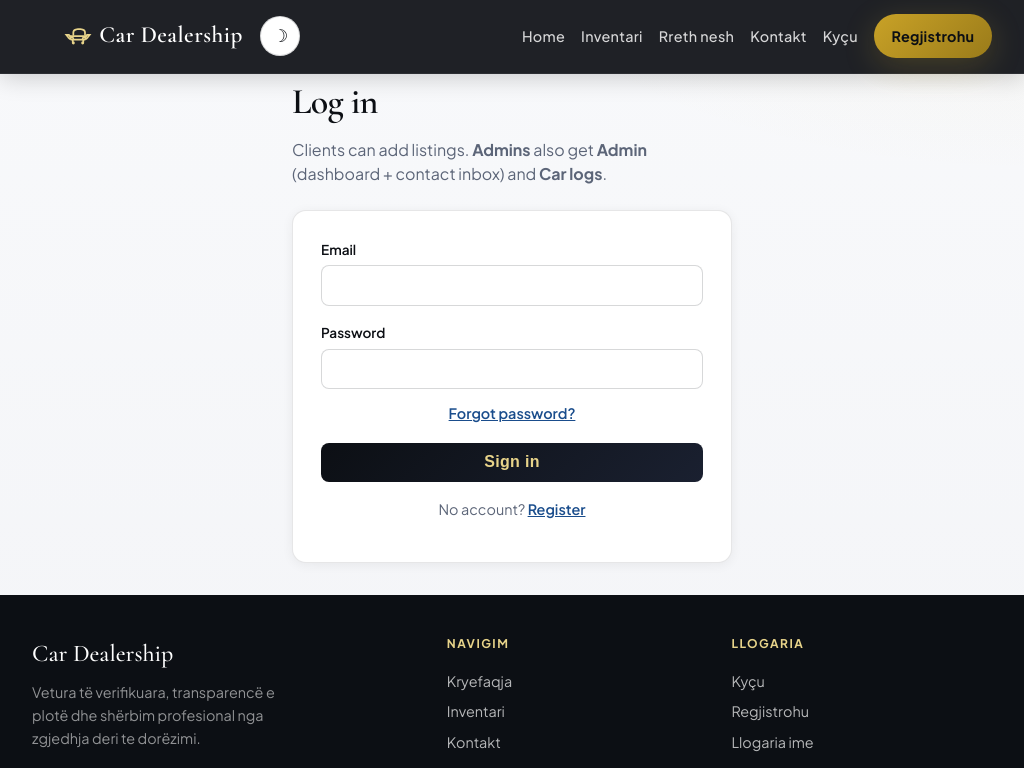
Test case: Car Dealership core user flow › shows validation on invalid login
Type "invalid.user@example.com" into the field with id "login-email" at (512, 286), box [321,265,703,306]
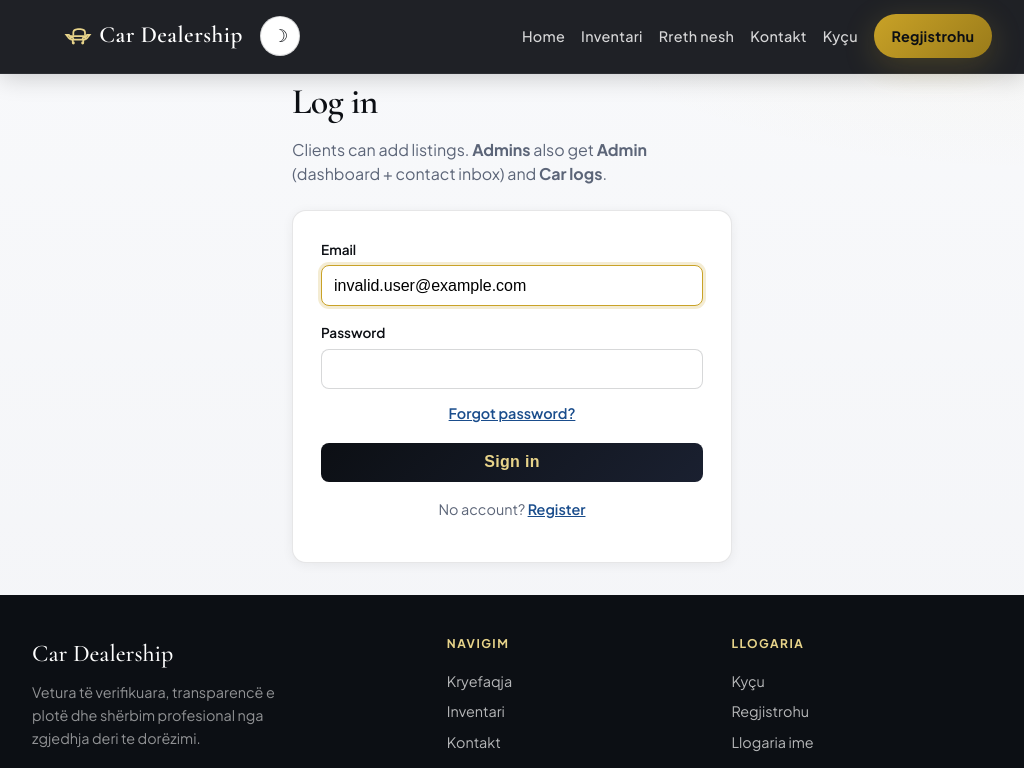
Type "wrong-password" into the password field with id "login-password" at (512, 370), box [321,349,703,390]
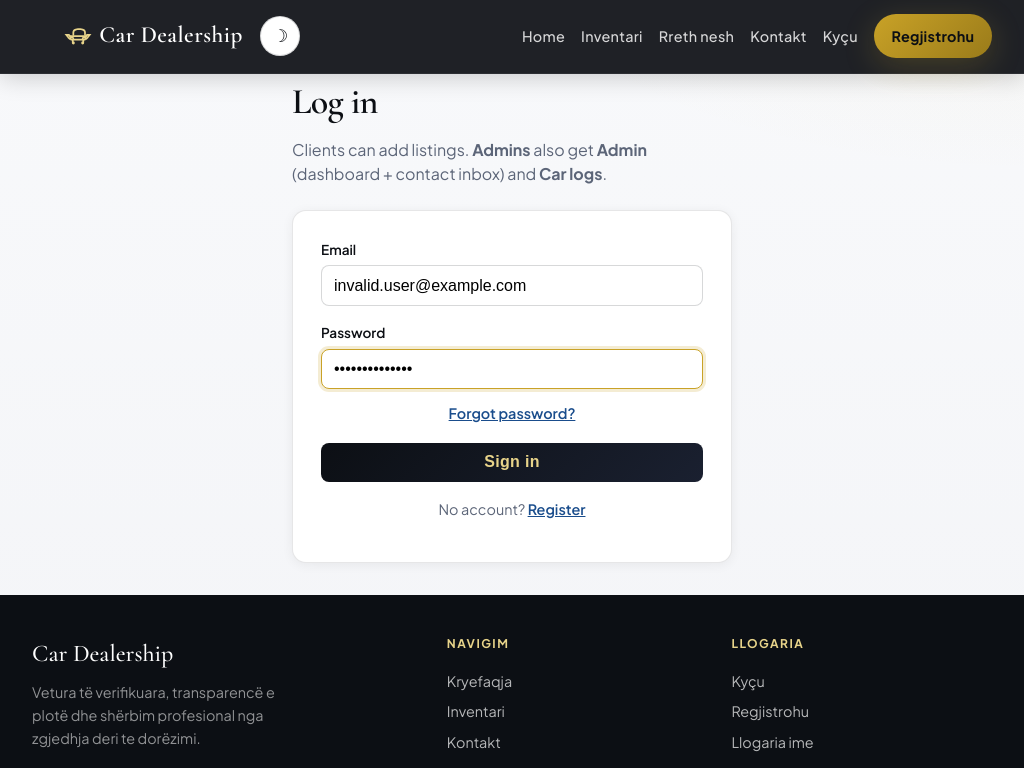
Click the button "Sign in" at (512, 463), box [321,443,703,482]
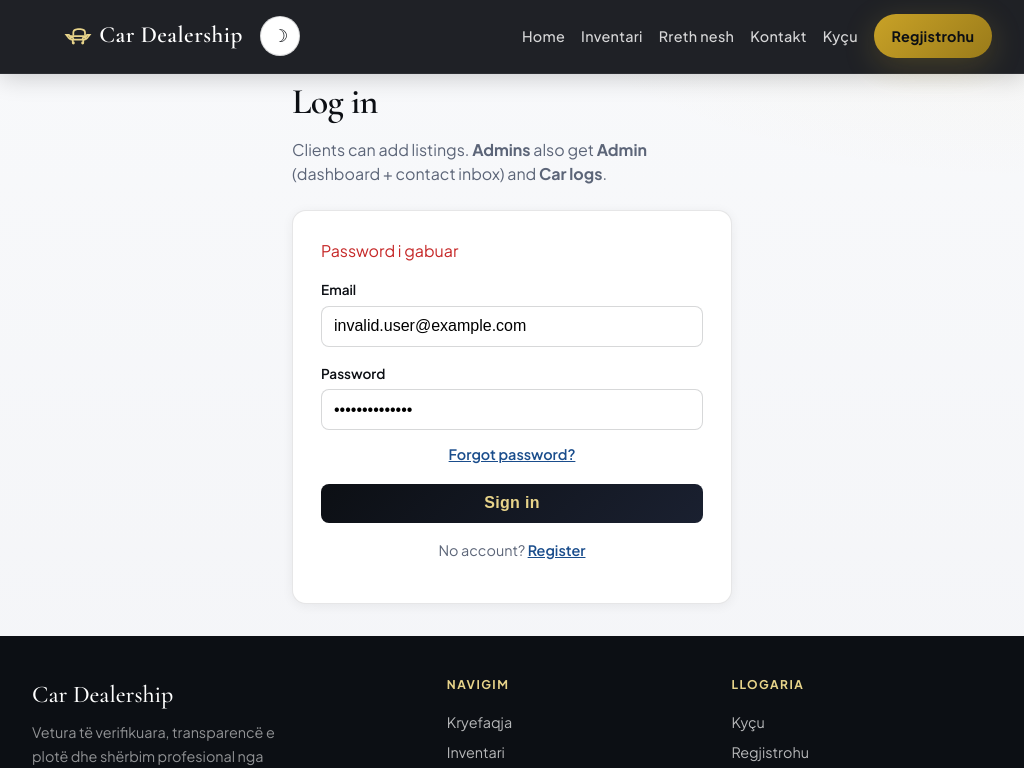
Now the text "Password i gabuar" is shown, box [321,240,458,261]
